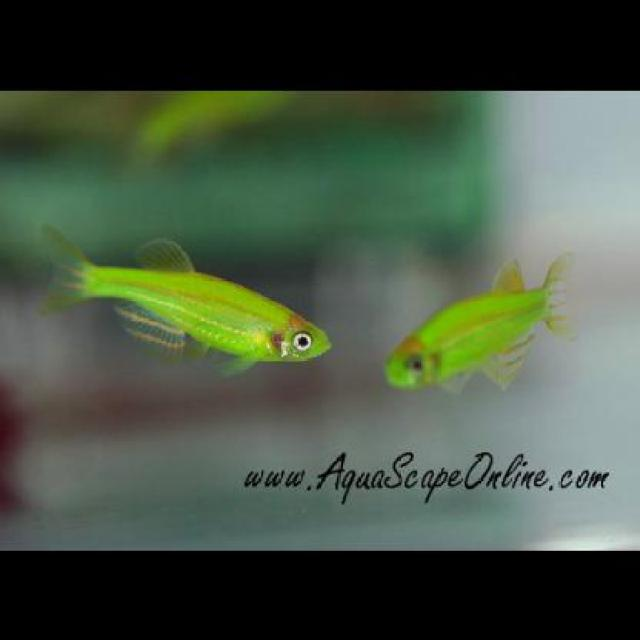ZebraFish: (33, 221, 330, 376)
